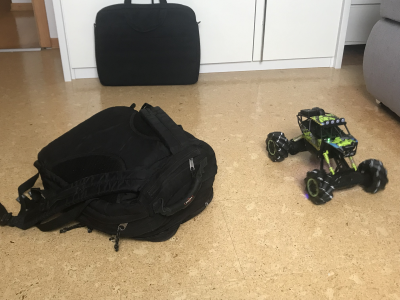remote control car: (263, 106, 389, 206)
